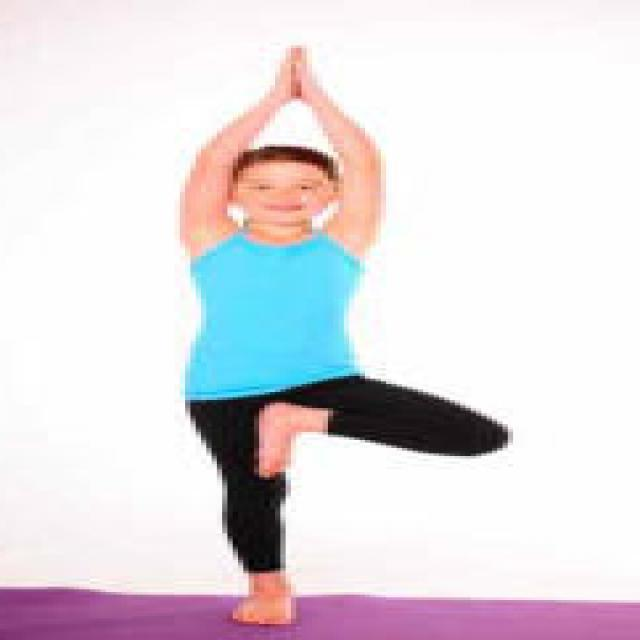yoga-pose tree: (159, 39, 522, 626)
